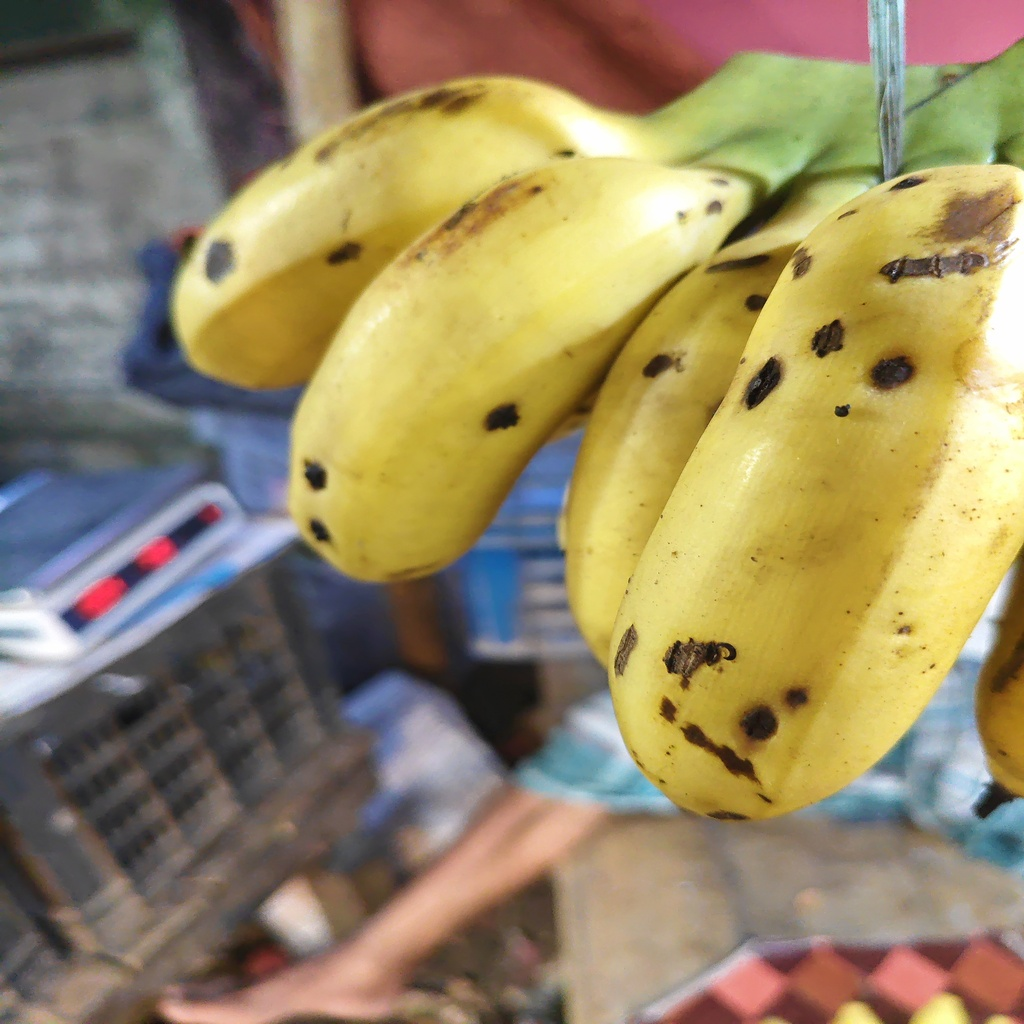unhealthy: (609, 166, 1021, 822), (293, 155, 732, 585)
